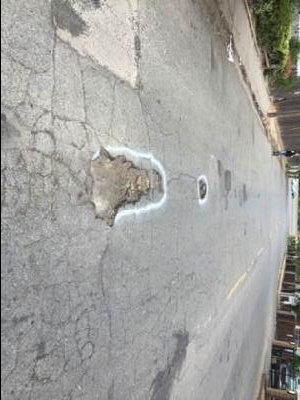pothole: (87, 147, 164, 225), (197, 177, 210, 201)
